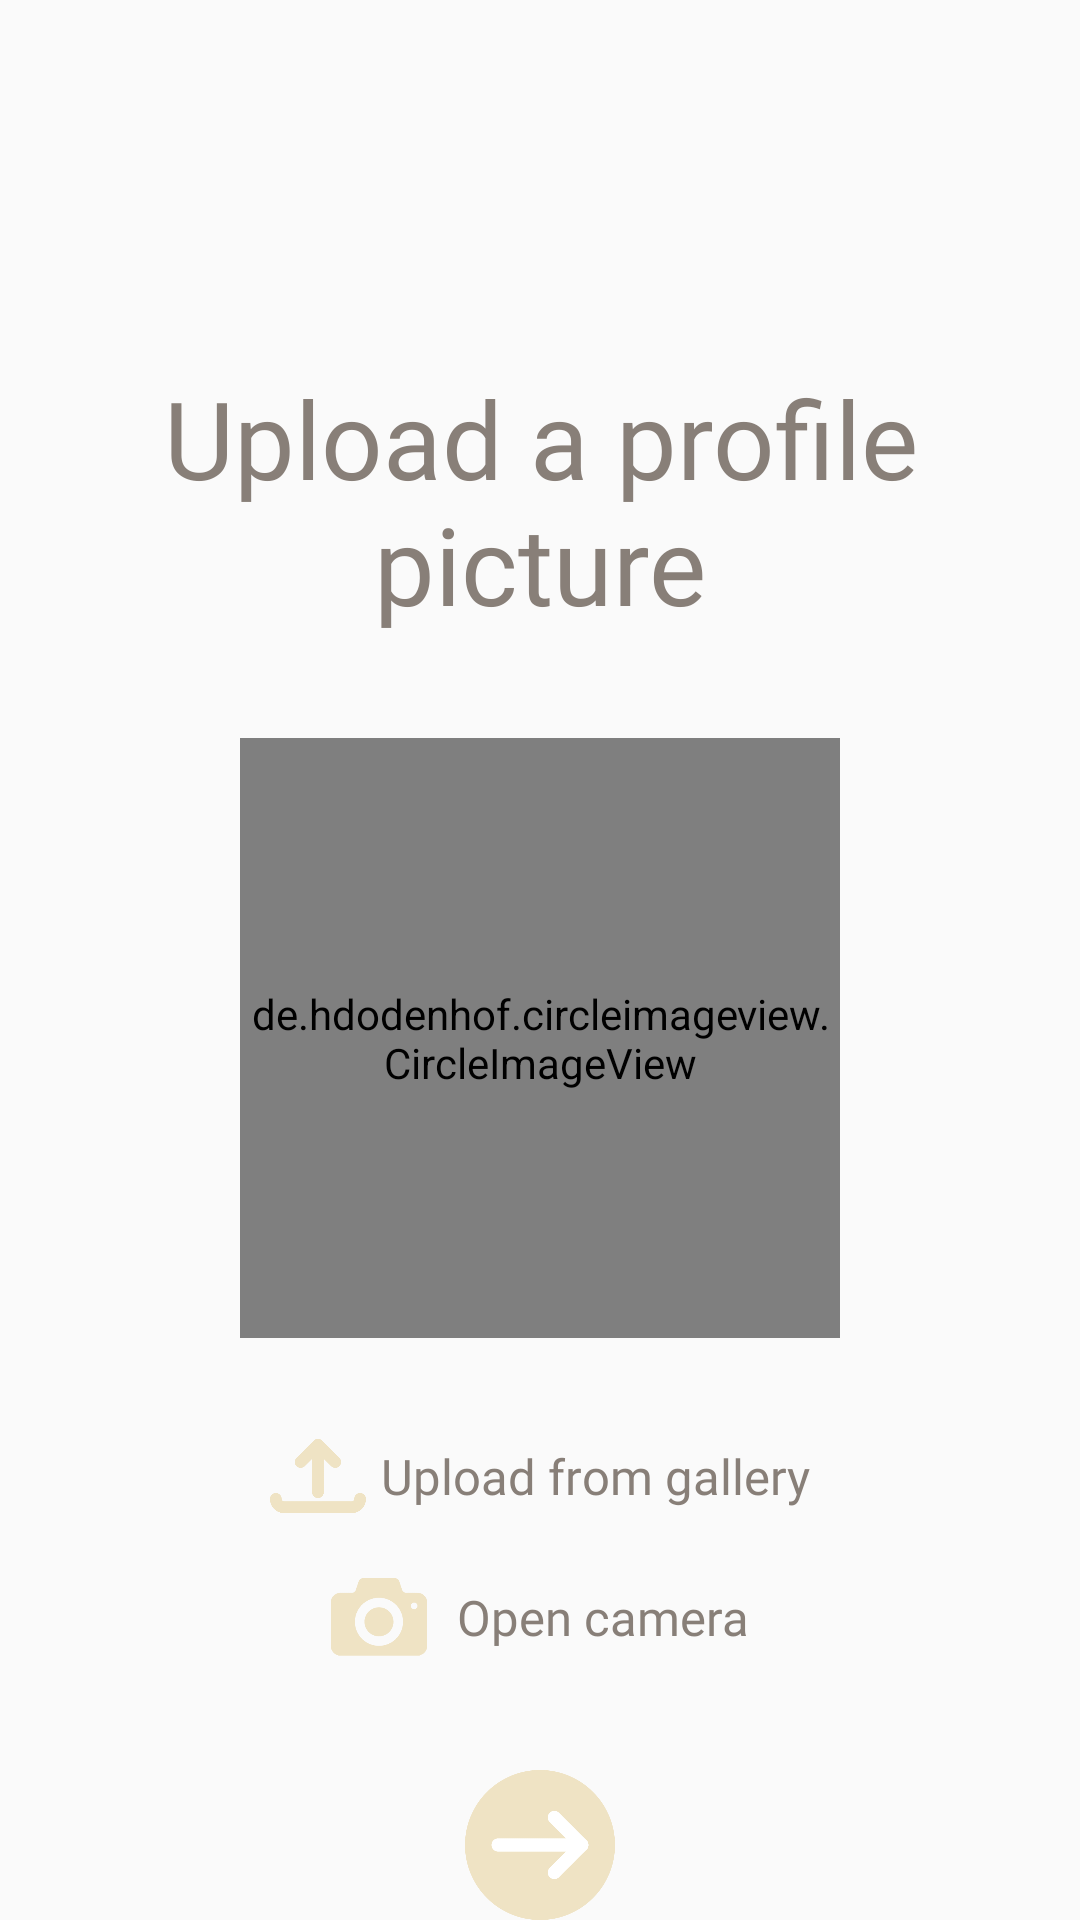

Icons on this 1080w x 1920h Android screen, each with the point to tap as (x,y):
next arrow: (540,1845)
